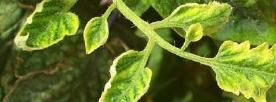Tomato leaf yellow virus: (205, 34, 276, 102), (15, 0, 84, 55), (97, 49, 157, 102), (161, 0, 234, 39), (84, 13, 111, 56)
